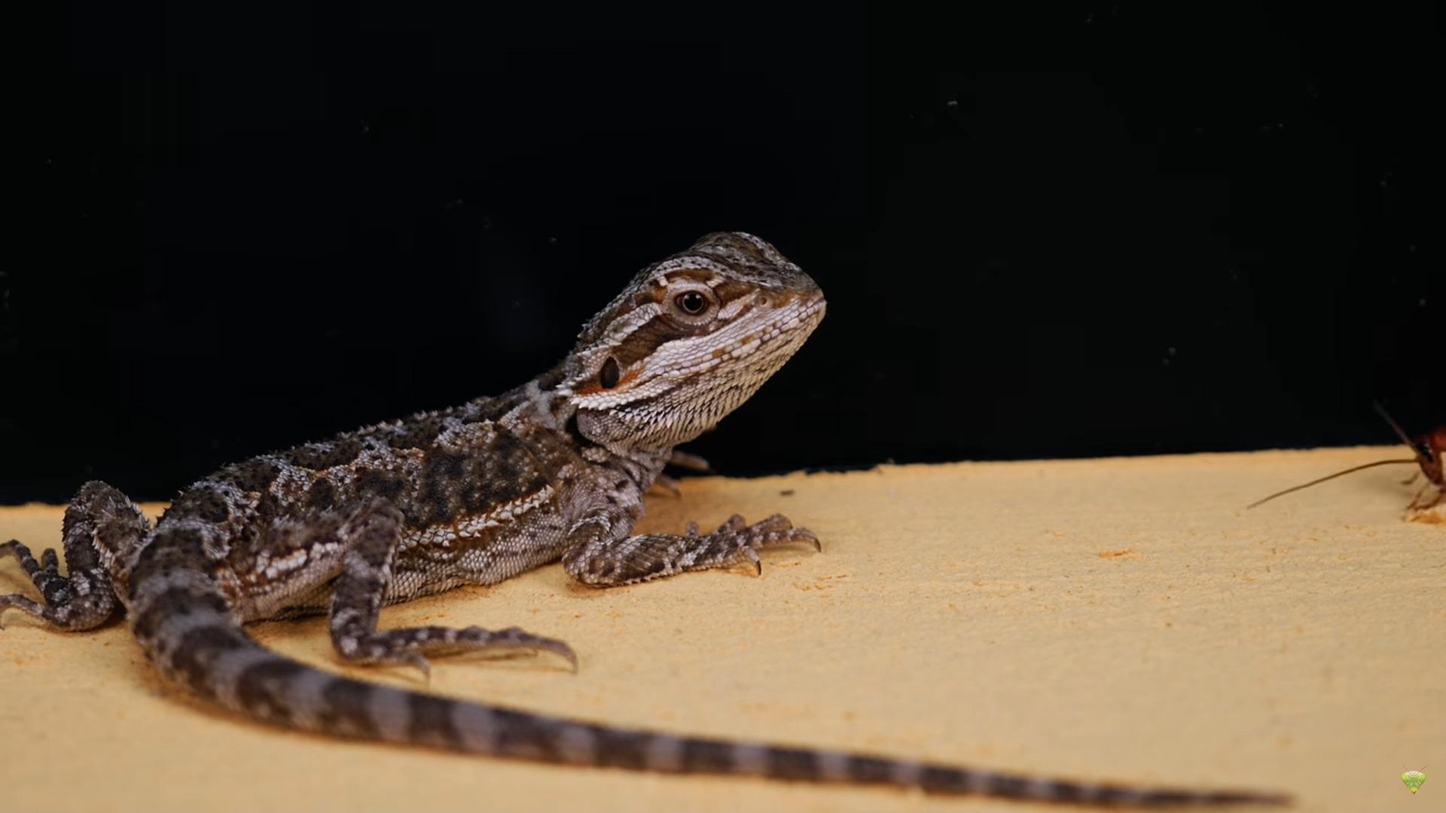lizard: (36, 222, 845, 773)
